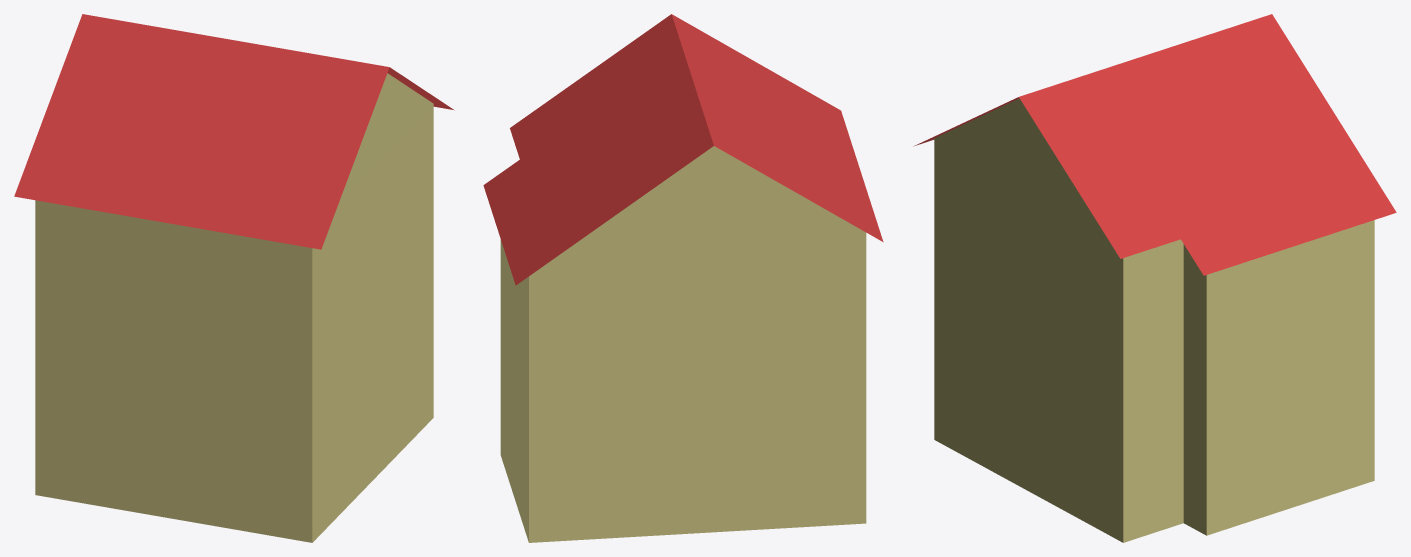
3 renders of one model, left to right at view 1: azimuth 30°, elevation 25°; view 2: azimuth 150°, elevation 25°; view 3: azimuth 270°, elevation 25°, orthographic. The views are drawn at different scales.
Bounding box in the file's own units: 14.78 × 15.4 × 14.02.
